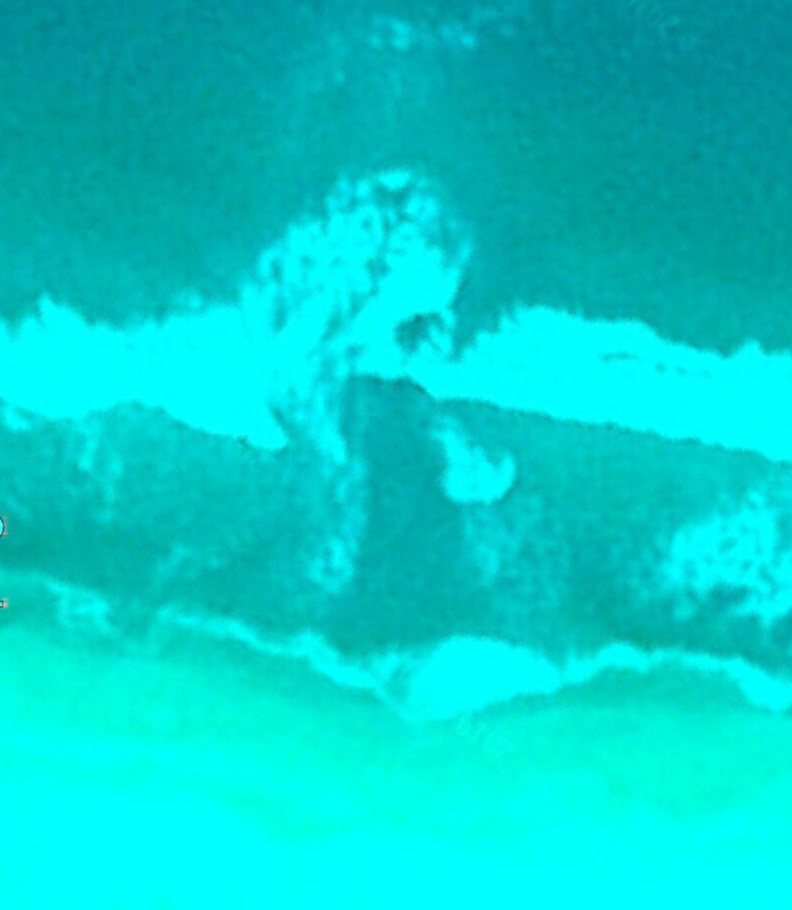rip_current: (245, 177, 529, 622)
